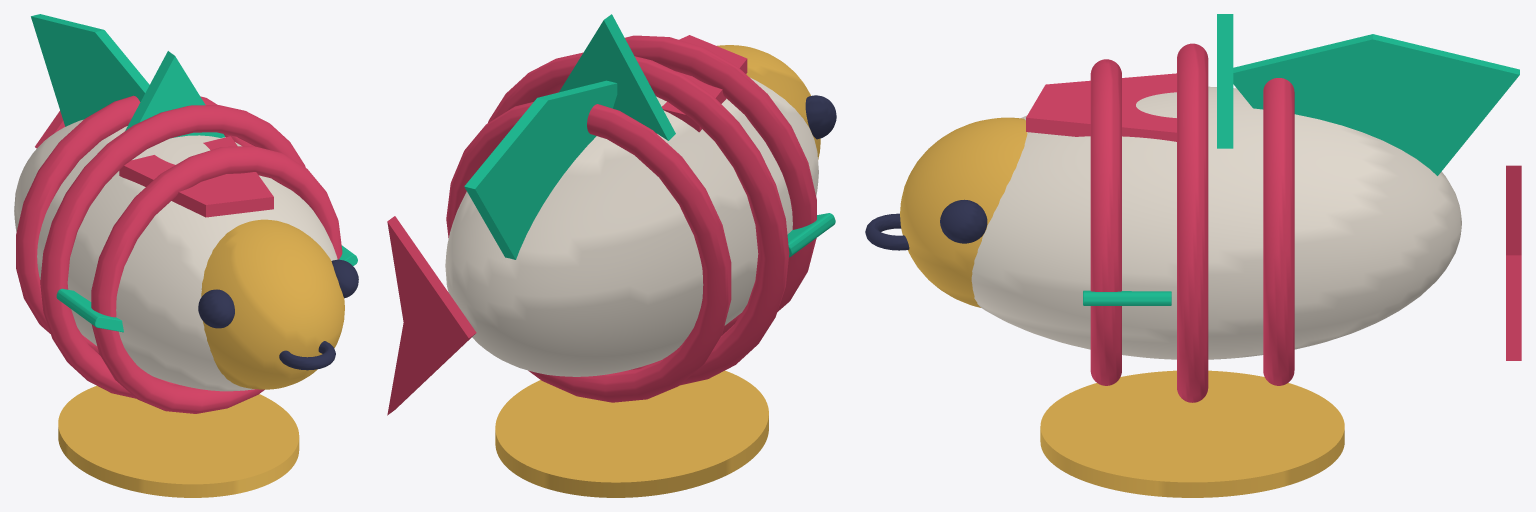
File: 0299_古生代动物图鉴_提塔利克鱼.glb
The picture shows the model from 3 angles, left to right: view 1: azimuth 30°, elevation 25°; view 2: azimuth 150°, elevation 25°; view 3: azimuth 270°, elevation 25°; orthographic projection. The views are drawn at different scales.
Parts seen in each view (by area): view 1: card_0299; view 2: card_0299; view 3: card_0299.
Part boxes in pixels (bbox=[...]): card_0299: bbox=[14, 14, 358, 497]; card_0299: bbox=[387, 14, 836, 497]; card_0299: bbox=[865, 14, 1521, 497].
Bounding box in the file's own units: 0.7567 × 1 × 1.38.
